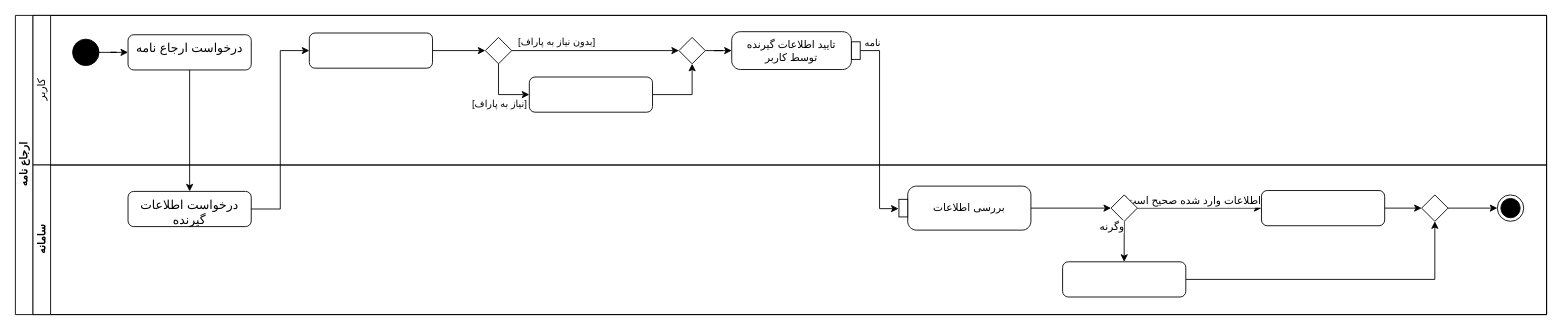
The diagram is 1562 pixels wide and 330 high, and some of its shapes have lost their labels. Here are the shapes that lost their labels. From the top down, the box of each, then its label:
(308, 32, 433, 68): وارد کردن اطلاعات گیرنده
(528, 76, 653, 112): افزودن پاراف
(1261, 190, 1385, 226): ارجاع نامه توسط سامانه به گیرنده
(1062, 261, 1186, 297): اعلام نامعتبر بودن اطلاعات گیرنده
